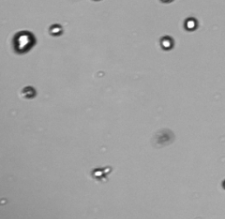Dead Cell: (154, 128, 175, 147), (19, 85, 39, 100)
Living Cell: (13, 30, 36, 53), (92, 164, 109, 182), (158, 35, 175, 51), (184, 15, 198, 33), (48, 22, 64, 37)
